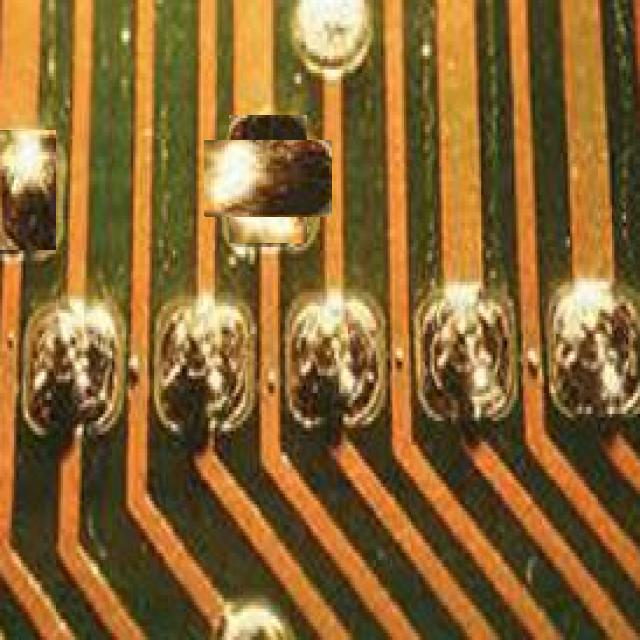redundant: (205, 141, 331, 216), (0, 131, 56, 249)
